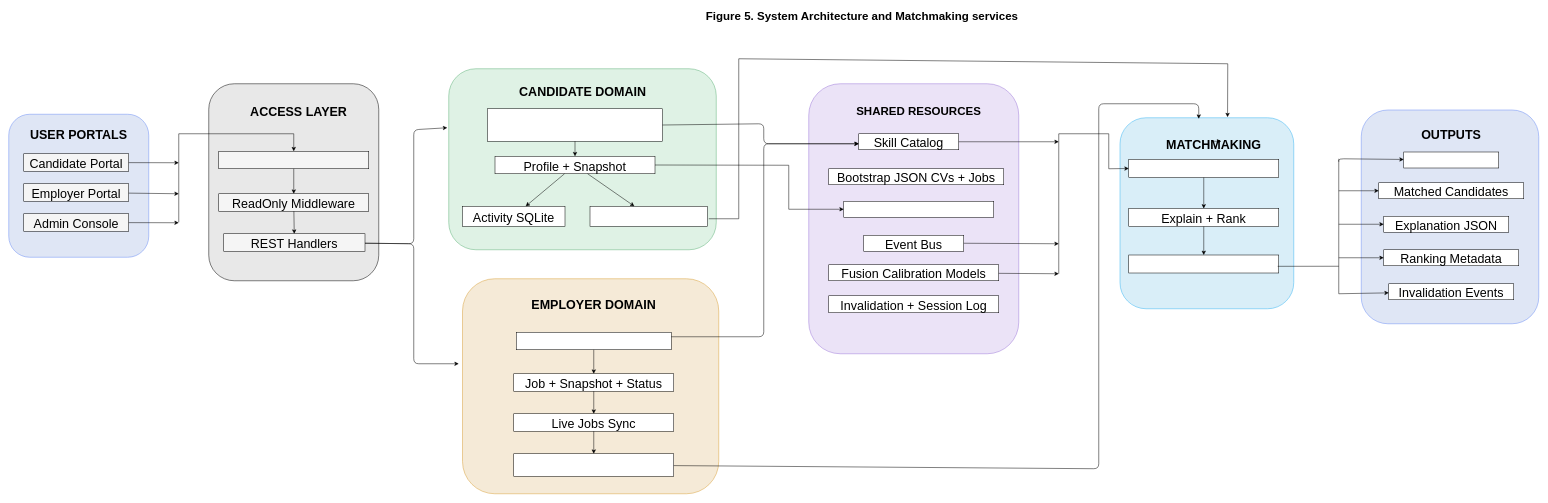
Image size: 1548x503. Some labels were removed from this diagram. Each missing label, with the centre of its shape:
Auth Sessions Roles: (293,160)
Candidate Parse Pipeline: (574,124)
Candidate Vectors: (649,216)
Job Vectors: (593,464)
Matched Jobs: (1451,160)
Parse + Live Sync: (593,341)
Ranked Results: (1203,263)
Retrieve + Score: (1203,168)
Snapshot Contracts: (918,209)
